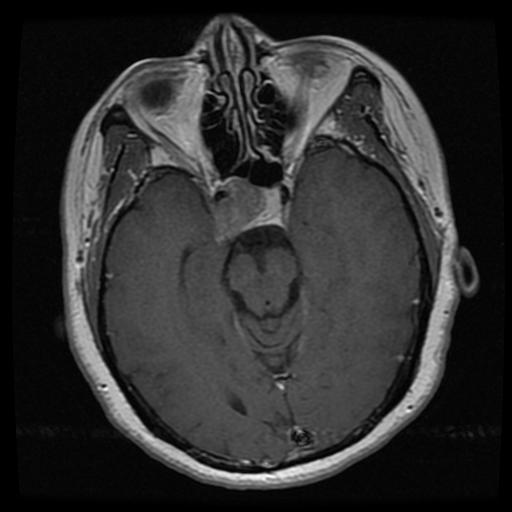Pituirity_tumour: (216, 180, 282, 229)
